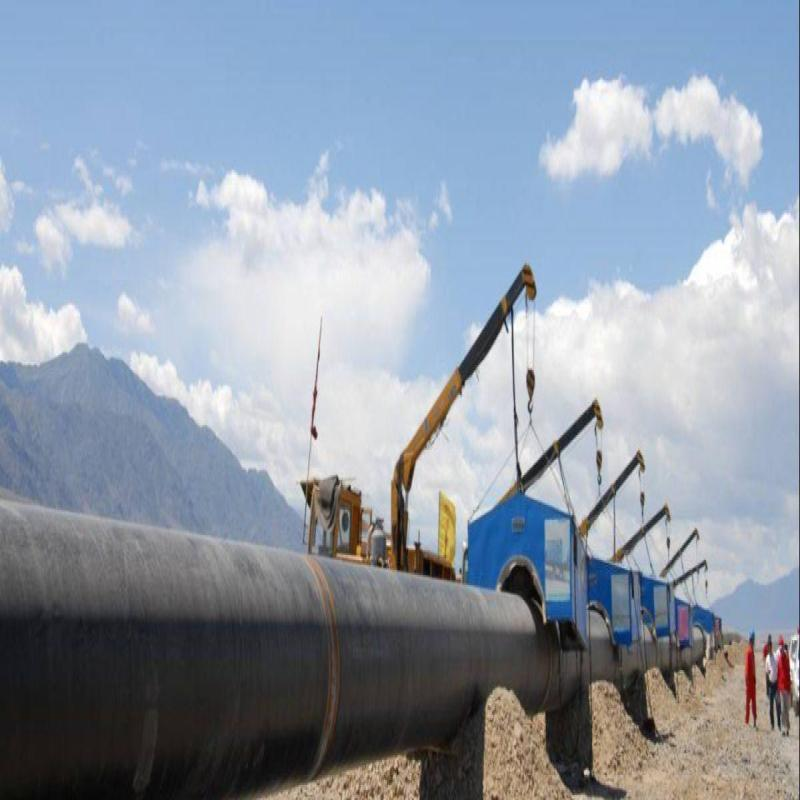Healthy: (4, 487, 526, 800)
